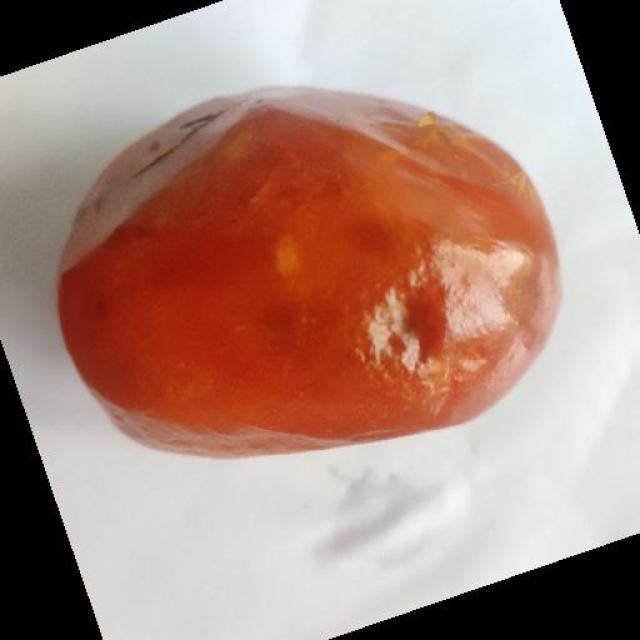Stale_tomato: (63, 80, 569, 448)
